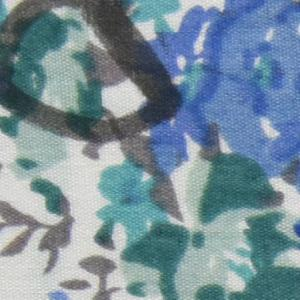Stain: (1, 1, 189, 148)
